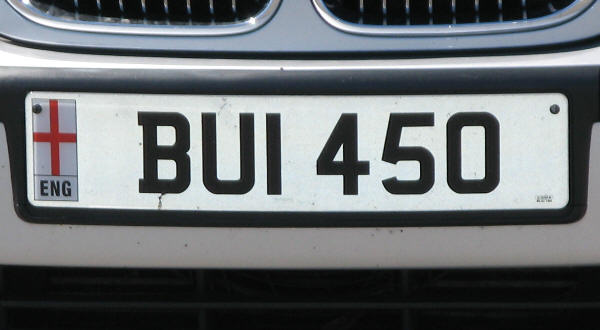license_plate: (24, 89, 568, 212)
